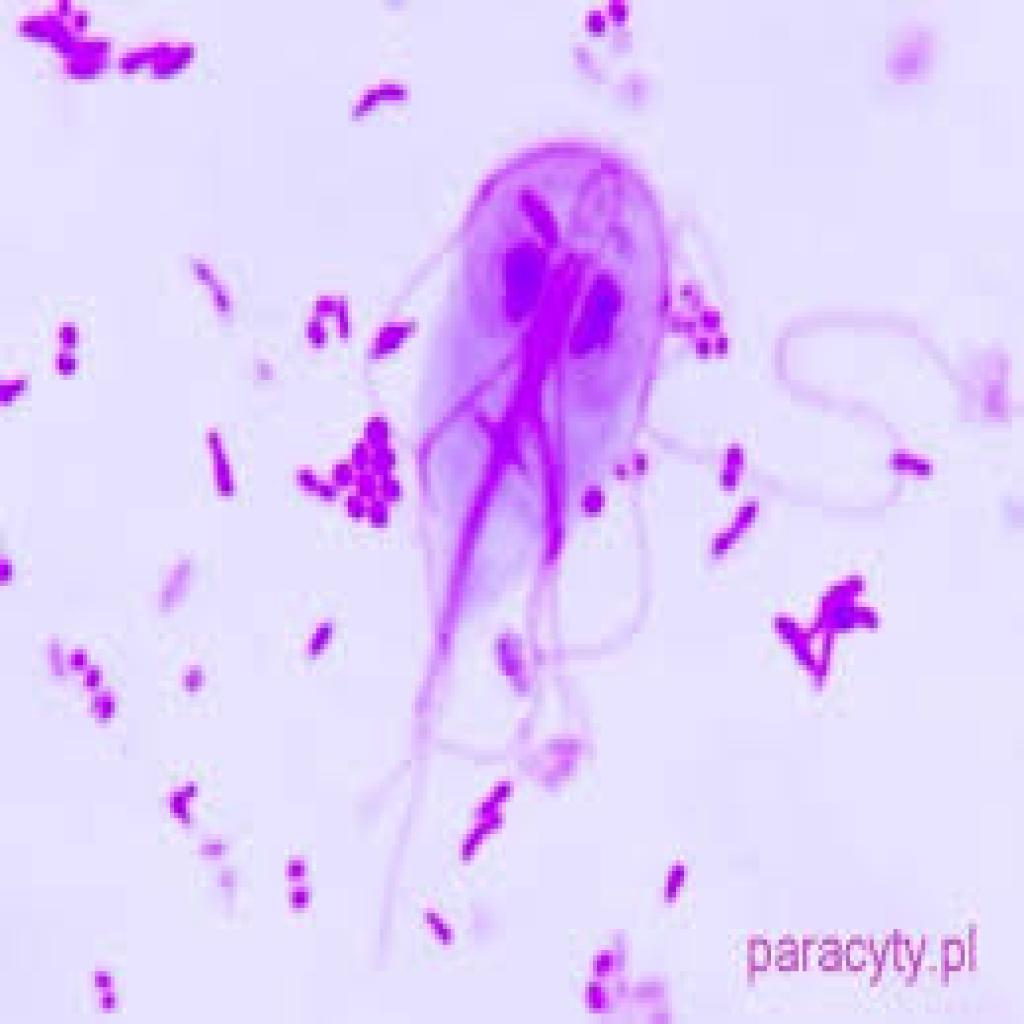Giardia: (384, 127, 668, 723)
